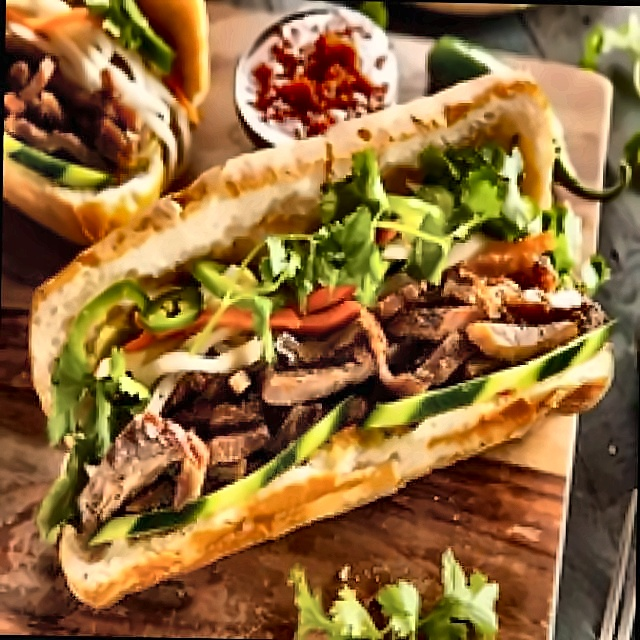bread: (31, 69, 524, 306), (78, 351, 606, 507)
cucumber_slice: (88, 394, 350, 548), (91, 394, 350, 548), (361, 319, 614, 433), (3, 132, 112, 188)
